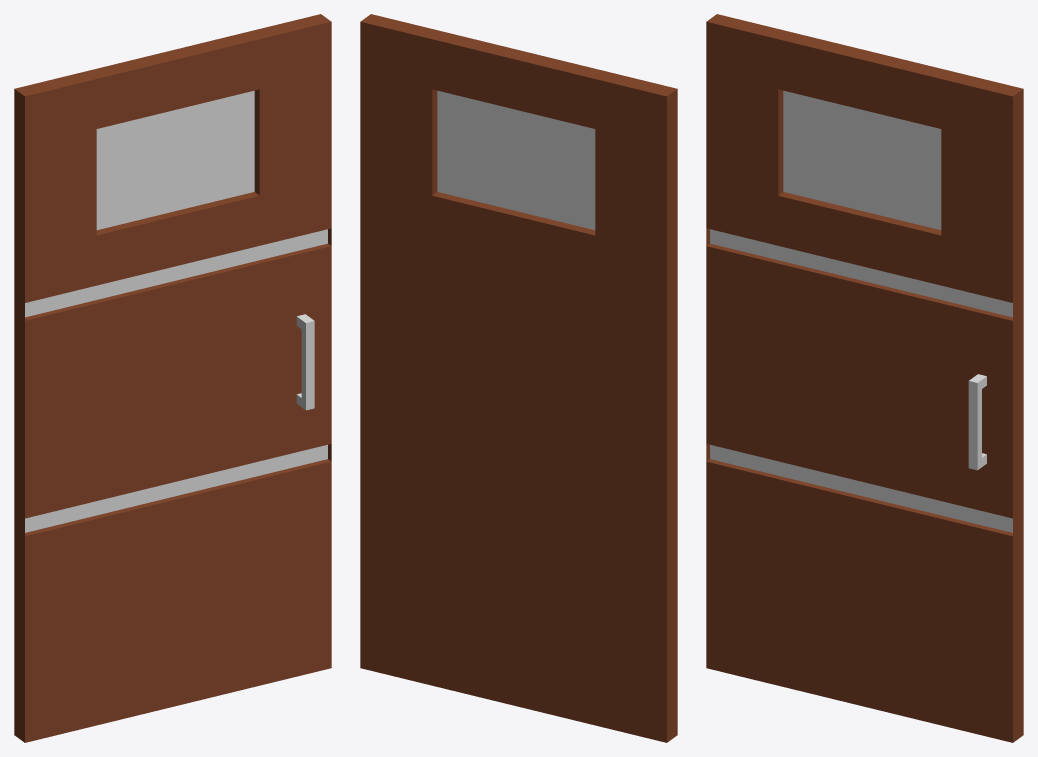
File: AG_Puerta.fbx
3 views of the same model, side by side, from view 1: azimuth 30°, elevation 25°; view 2: azimuth 150°, elevation 25°; view 3: azimuth 330°, elevation 25° (orthographic).
Visible parts, largest first — view 1: Puerta; view 2: Puerta; view 3: Puerta.
Boxes of the visible parts, x1,y1,x2,y2 form: Puerta: (14,14,331,742); Puerta: (360,14,677,742); Puerta: (706,14,1023,742).
Bounding box in the file's own units: 538 × 1084 × 60.46.
